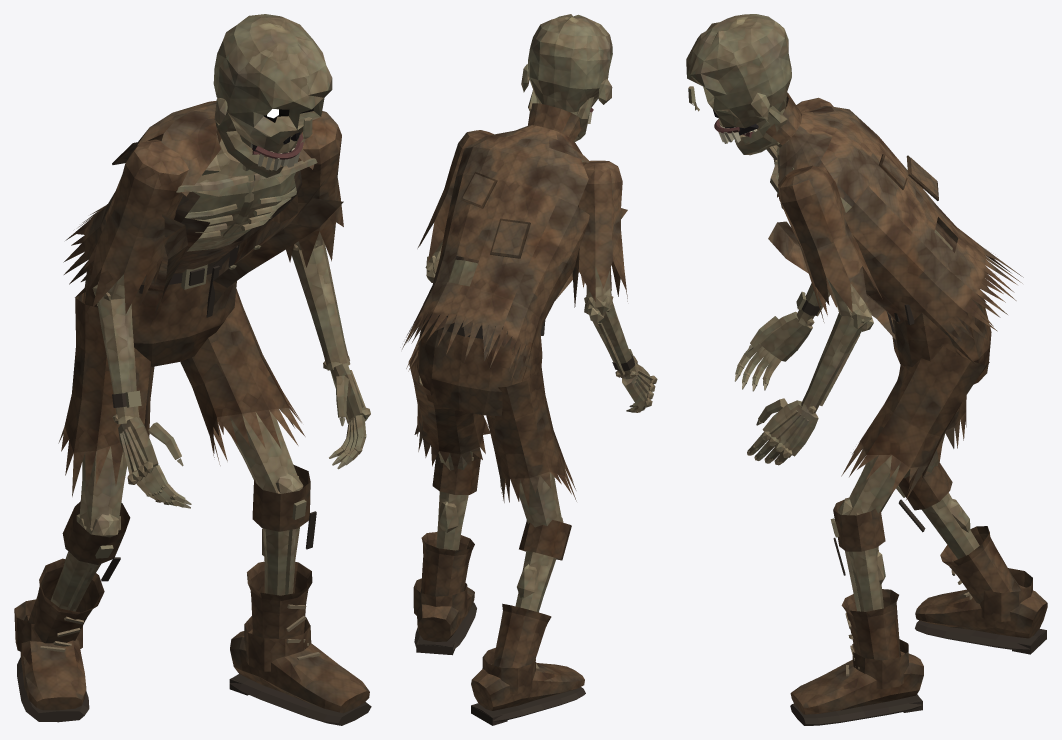
File: zombie_walker_a.glb
3 renders of one model, left to right at view 1: azimuth 30°, elevation 25°; view 2: azimuth 150°, elevation 25°; view 3: azimuth 270°, elevation 25°, orthographic. The views are drawn at different scales.
Visible parts, largest first — view 1: zombie_walker_a_chest, zombie_walker_a_head, zombie_walker_a_thigh_l, zombie_walker_a_thigh_r, zombie_walker_a_upper_r, zombie_walker_a_foot_l, zombie_walker_a_shin_l, zombie_walker_a_pelvis, zombie_walker_a_shin_r, zombie_walker_a_foot_r, zombie_walker_a_upper_l, zombie_walker_a_fore_r (+4 smaller); view 2: zombie_walker_a_chest, zombie_walker_a_thigh_r, zombie_walker_a_pelvis, zombie_walker_a_head, zombie_walker_a_shin_r, zombie_walker_a_upper_r, zombie_walker_a_foot_r, zombie_walker_a_shin_l, zombie_walker_a_thigh_l, zombie_walker_a_foot_l, zombie_walker_a_fore_r, zombie_walker_a_upper_l (+2 smaller); view 3: zombie_walker_a_chest, zombie_walker_a_thigh_l, zombie_walker_a_head, zombie_walker_a_upper_l, zombie_walker_a_foot_l, zombie_walker_a_foot_r, zombie_walker_a_shin_l, zombie_walker_a_shin_r, zombie_walker_a_pelvis, zombie_walker_a_hand_r, zombie_walker_a_hand_l, zombie_walker_a_fore_l (+3 smaller).
Boxes of the visible parts, bbox=[...] form: zombie_walker_a_chest: bbox=[63, 100, 343, 313]; zombie_walker_a_head: bbox=[213, 14, 332, 170]; zombie_walker_a_thigh_l: bbox=[180, 289, 305, 493]; zombie_walker_a_thigh_r: bbox=[58, 293, 154, 537]; zombie_walker_a_upper_r: bbox=[84, 139, 188, 313]; zombie_walker_a_foot_l: bbox=[229, 616, 371, 725]; zombie_walker_a_shin_l: bbox=[247, 464, 316, 649]; zombie_walker_a_pelvis: bbox=[82, 244, 239, 366]; zombie_walker_a_shin_r: bbox=[28, 501, 130, 646]; zombie_walker_a_foot_r: bbox=[14, 599, 89, 722]; zombie_walker_a_upper_l: bbox=[272, 111, 343, 267]; zombie_walker_a_fore_r: bbox=[92, 284, 141, 424]; zombie_walker_a_chest: bbox=[402, 103, 627, 382]; zombie_walker_a_thigh_r: bbox=[486, 364, 576, 527]; zombie_walker_a_pelvis: bbox=[417, 313, 545, 416]; zombie_walker_a_head: bbox=[521, 14, 612, 123]; zombie_walker_a_shin_r: bbox=[492, 520, 571, 668]; zombie_walker_a_upper_r: bbox=[569, 160, 627, 314]; zombie_walker_a_foot_r: bbox=[471, 647, 585, 725]; zombie_walker_a_shin_l: bbox=[420, 453, 480, 596]; zombie_walker_a_thigh_l: bbox=[408, 347, 490, 473]; zombie_walker_a_foot_l: bbox=[413, 578, 476, 655]; zombie_walker_a_fore_r: bbox=[584, 296, 637, 379]; zombie_walker_a_upper_l: bbox=[417, 130, 493, 274]; zombie_walker_a_chest: bbox=[757, 92, 1023, 368]; zombie_walker_a_thigh_l: bbox=[838, 346, 989, 515]; zombie_walker_a_head: bbox=[686, 14, 791, 146]; zombie_walker_a_upper_l: bbox=[778, 165, 882, 322]; zombie_walker_a_foot_l: bbox=[790, 639, 923, 725]; zombie_walker_a_foot_r: bbox=[915, 568, 1047, 654]; zombie_walker_a_shin_l: bbox=[830, 497, 901, 668]; zombie_walker_a_shin_r: bbox=[896, 462, 1020, 603]; zombie_walker_a_pelvis: bbox=[887, 288, 991, 384]; zombie_walker_a_hand_r: bbox=[734, 311, 812, 391]; zombie_walker_a_hand_l: bbox=[747, 398, 818, 465]; zombie_walker_a_fore_l: bbox=[801, 308, 873, 413].
Bounding box in the file's own units: 0.6053 × 1.63 × 0.819.
Materials: 4 (2 with a texture image).
